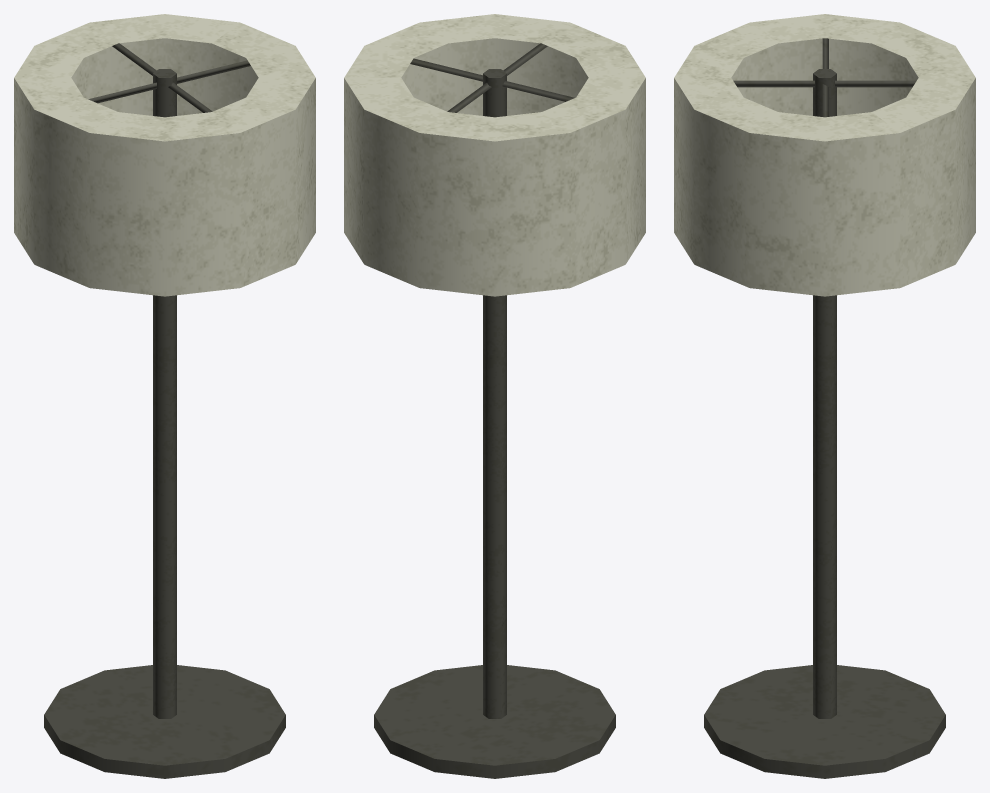
File: FloorLamp.fbx
3 views of the same model, side by side, from view 1: azimuth 30°, elevation 25°; view 2: azimuth 150°, elevation 25°; view 3: azimuth 270°, elevation 25° (orthographic).
Parts seen in each view (by area): view 1: Cylinder.053, Cylinder.056; view 2: Cylinder.053, Cylinder.056; view 3: Cylinder.053, Cylinder.056.
Boxes of the visible parts, x1=… form: Cylinder.053: x1=14, y1=14, x2=315, y2=296; Cylinder.056: x1=44, y1=43, x2=285, y2=778; Cylinder.053: x1=344, y1=14, x2=645, y2=296; Cylinder.056: x1=374, y1=43, x2=615, y2=778; Cylinder.053: x1=674, y1=14, x2=975, y2=296; Cylinder.056: x1=704, y1=38, x2=945, y2=778.
Size of the model in its own units: 101 by 242 by 101.
